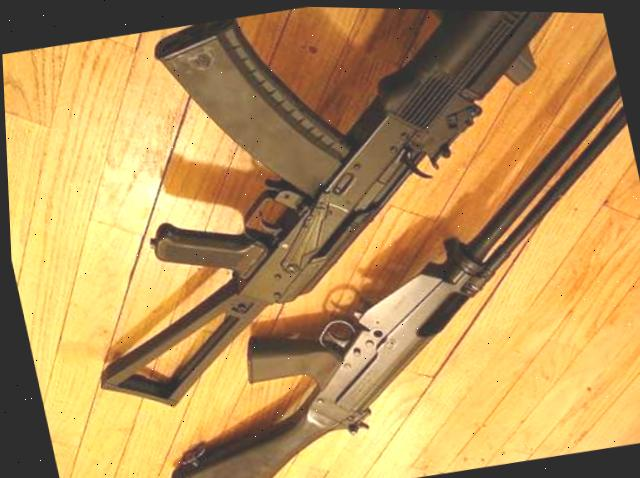rifle: (6, 0, 640, 447), (93, 61, 640, 478)
